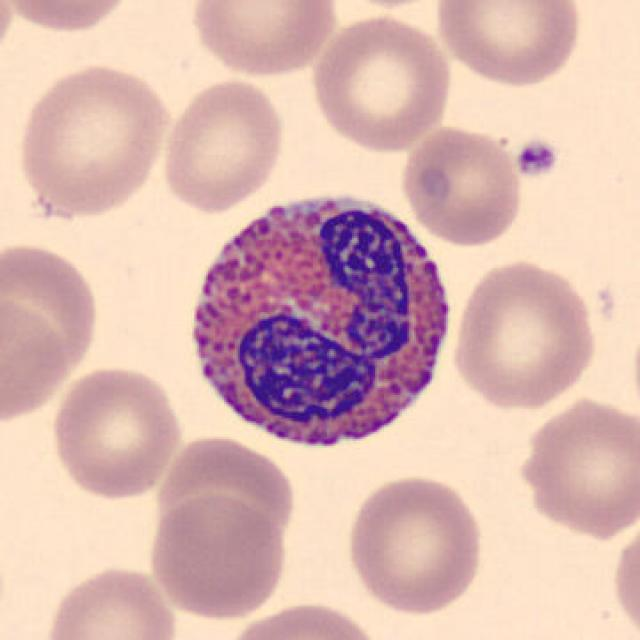Eosinophil: (172, 172, 468, 464)
Platelets: (512, 136, 562, 182)
RBC: (12, 60, 174, 222), (448, 255, 601, 412), (341, 469, 487, 617), (306, 10, 455, 154), (46, 362, 185, 502), (510, 391, 638, 543), (144, 492, 292, 622), (156, 74, 288, 215), (151, 432, 301, 550), (400, 122, 524, 250), (0, 238, 103, 388), (432, 0, 587, 88), (184, 0, 341, 79), (39, 560, 183, 640), (0, 291, 69, 427), (220, 597, 385, 640), (1, 0, 138, 35), (608, 513, 640, 640), (327, 0, 448, 11), (0, 0, 18, 72)
